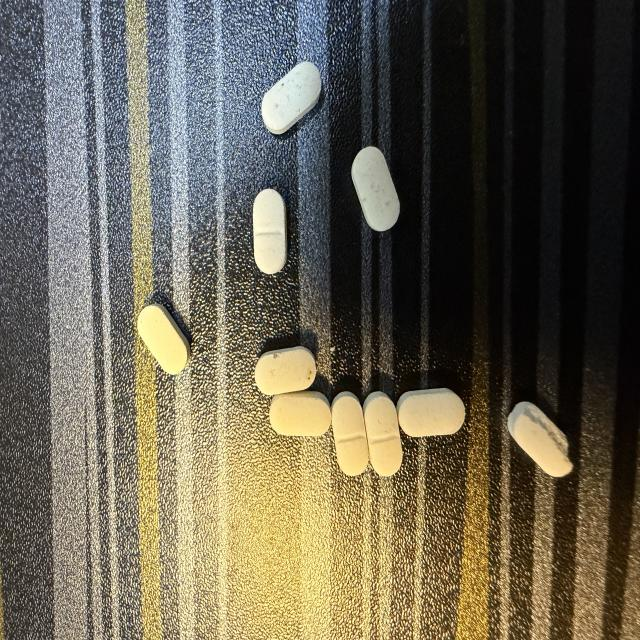pill: (508, 402, 572, 476), (262, 62, 321, 134), (352, 147, 399, 231), (138, 304, 190, 374), (397, 389, 465, 436), (364, 392, 402, 476), (332, 392, 368, 475), (255, 347, 316, 395), (253, 189, 286, 274), (270, 391, 330, 436)
